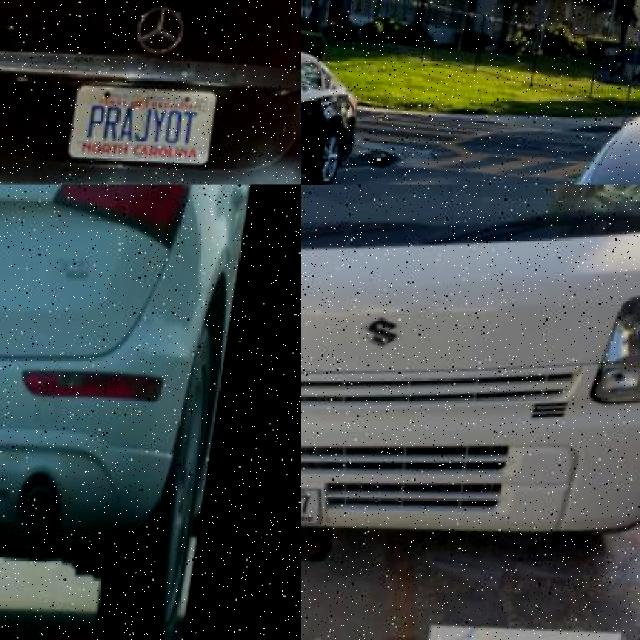licenseplate: (70, 88, 218, 171), (300, 474, 377, 548), (0, 198, 49, 291)
